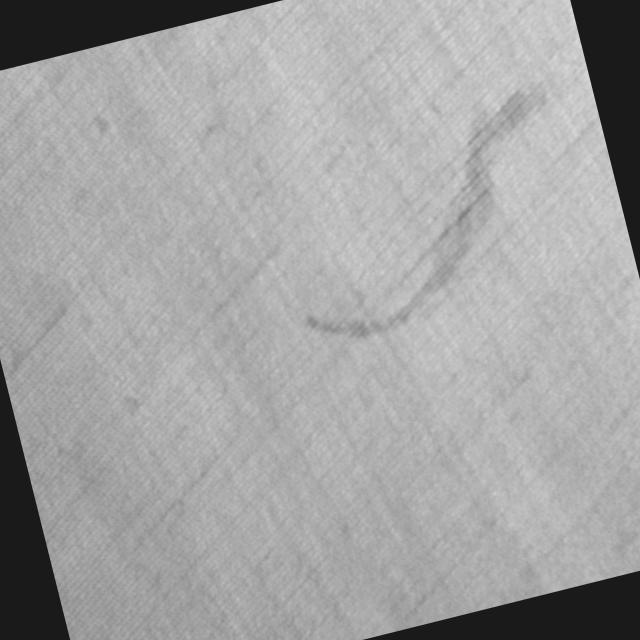oil spot: (258, 69, 601, 358)
